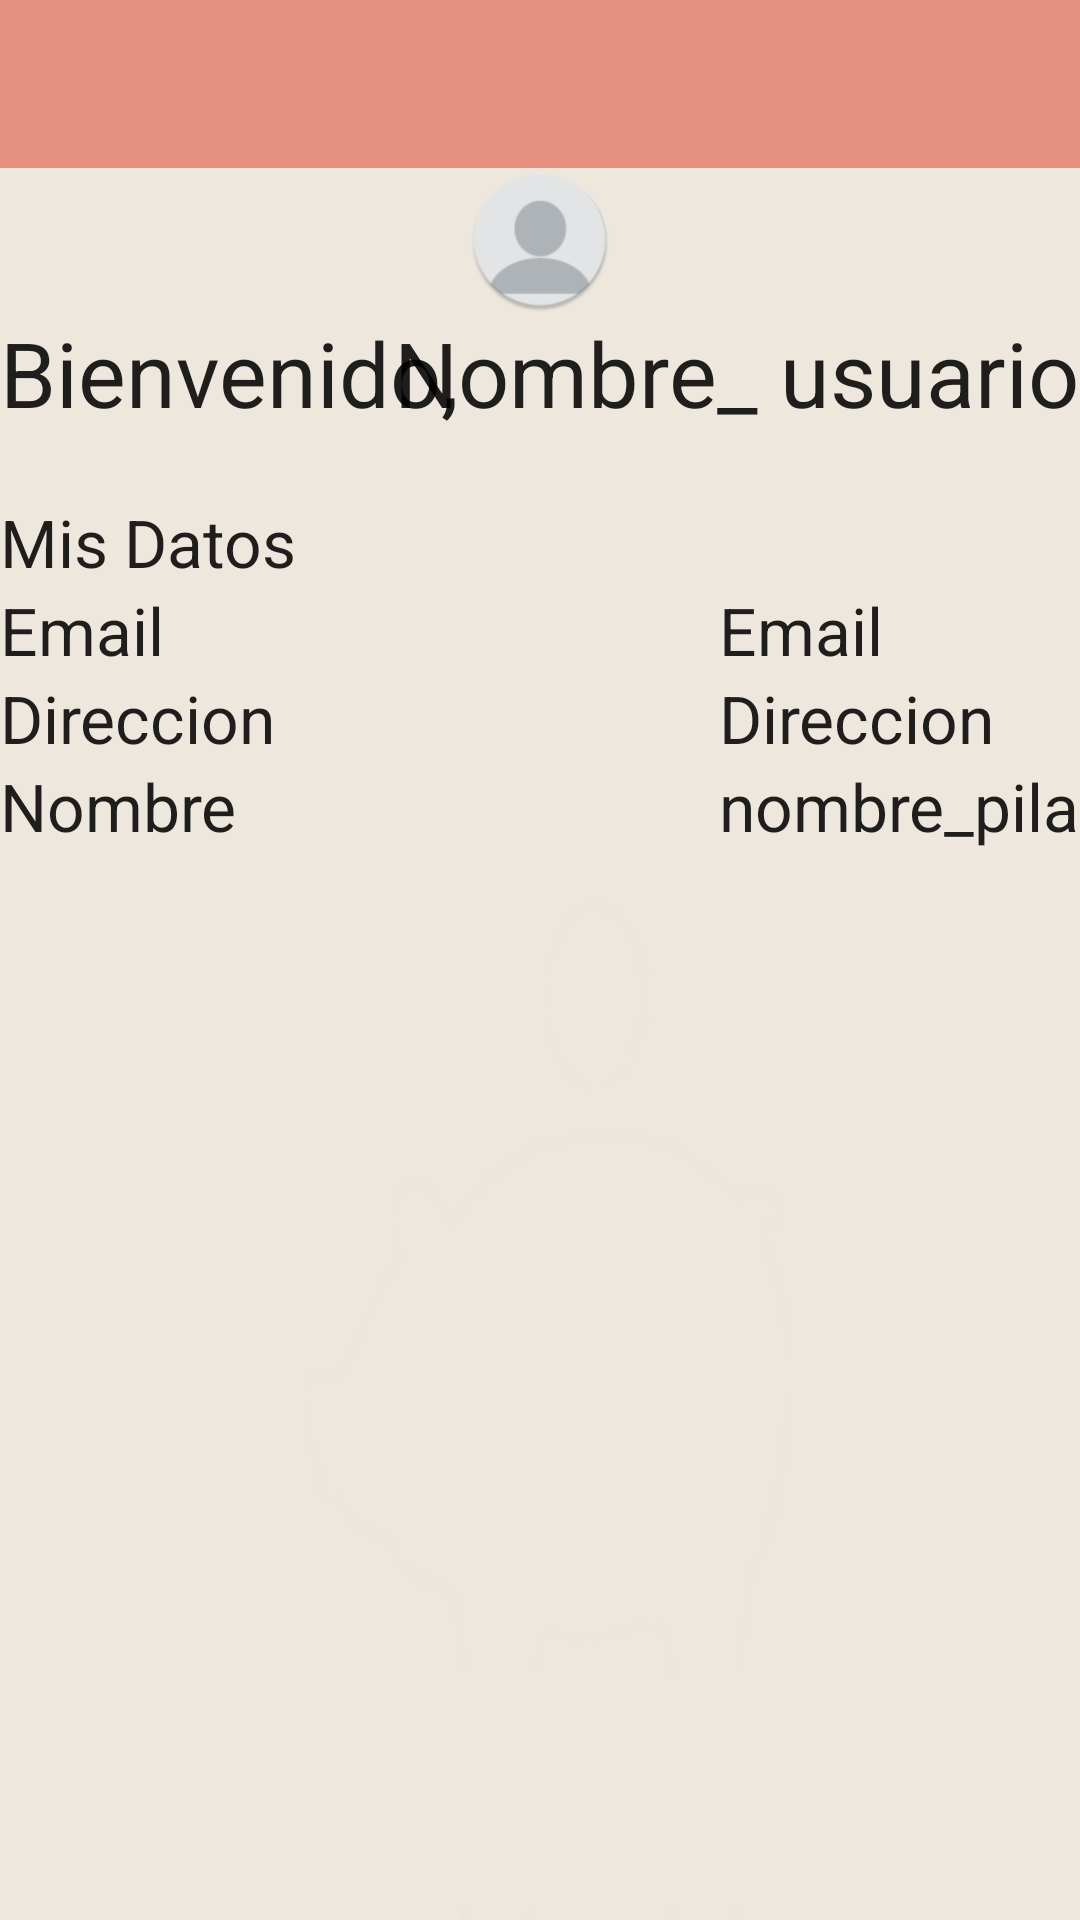

Named icons in this screenshot (1080px×1920px) and their centers, point (x, y):
perfil usuario: point (540, 242)
